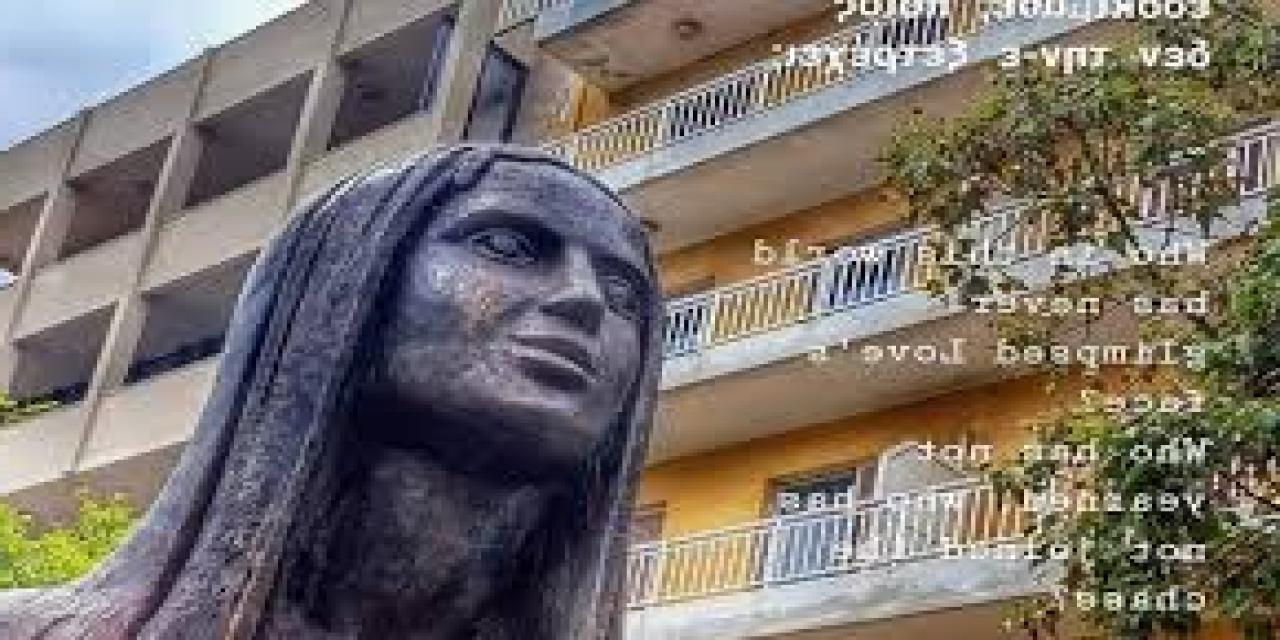Aretousa: (1, 141, 672, 640)
